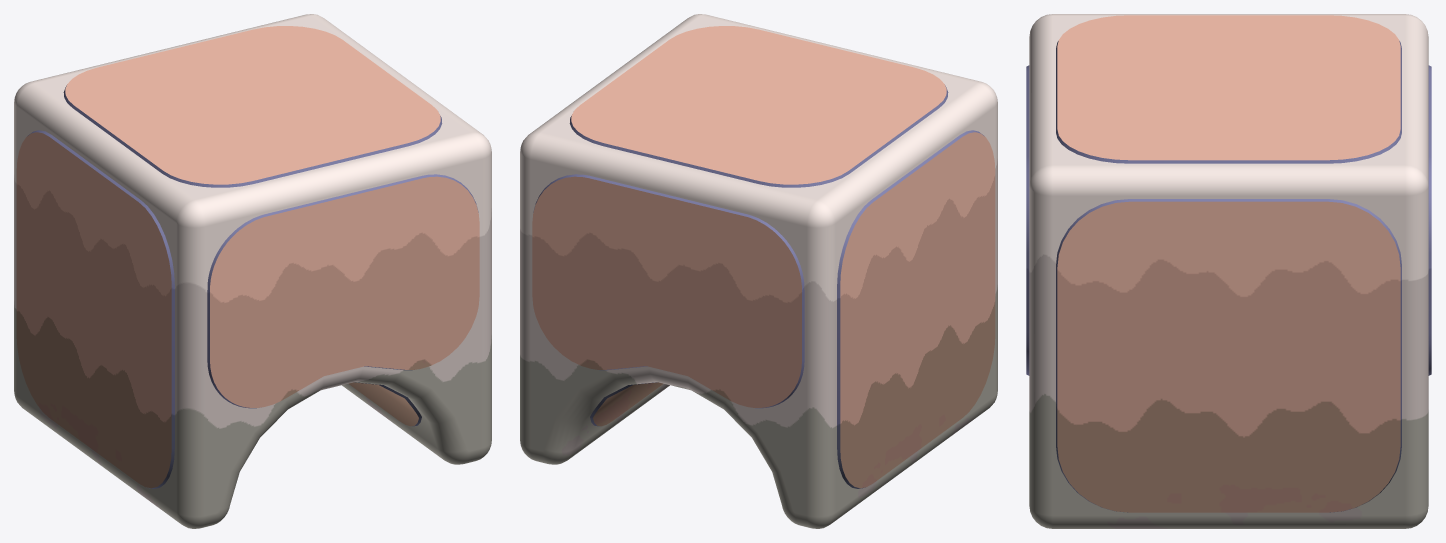
Rendered from R4B_Arch.glb.
3 renders of one model, left to right at view 1: azimuth 30°, elevation 25°; view 2: azimuth 150°, elevation 25°; view 3: azimuth 270°, elevation 25°, orthographic. The views are drawn at different scales.
Parts seen in each view (by area): view 1: R4B_Arch; view 2: R4B_Arch; view 3: R4B_Arch.
Part boxes in pixels (bbox=[...]): R4B_Arch: bbox=[14, 14, 491, 528]; R4B_Arch: bbox=[520, 14, 997, 528]; R4B_Arch: bbox=[1026, 14, 1431, 528].
Bounding box in the file's own units: 0.52 × 0.516 × 0.52.
3 materials, 3 textured.
